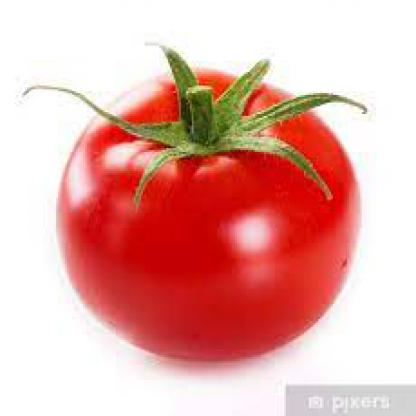Fresh: (13, 17, 390, 384)
Rotten: (9, 17, 391, 378)
